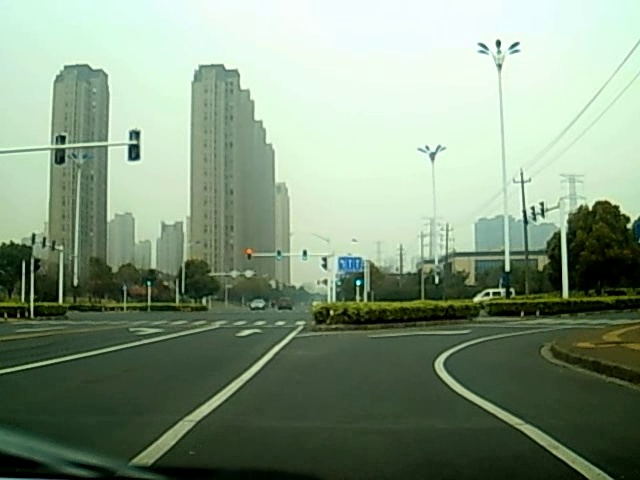Traffic_Light_go: (354, 274, 362, 290), (300, 249, 308, 263), (277, 248, 283, 262)
Traffic_Light_stop: (244, 249, 251, 261)
